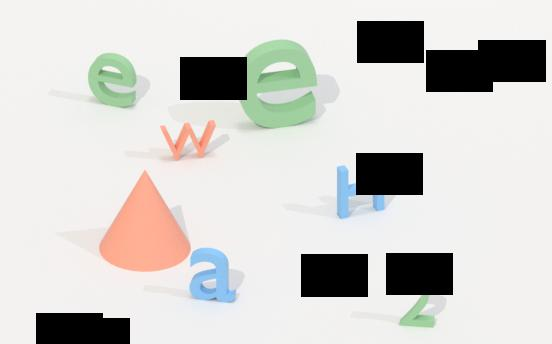2: (394, 269, 437, 332)
H-hoa: (333, 158, 391, 224)
a: (187, 246, 239, 306)
e: (229, 39, 322, 129), (85, 51, 141, 111)
non: (91, 173, 196, 271)
w: (156, 119, 221, 161)
